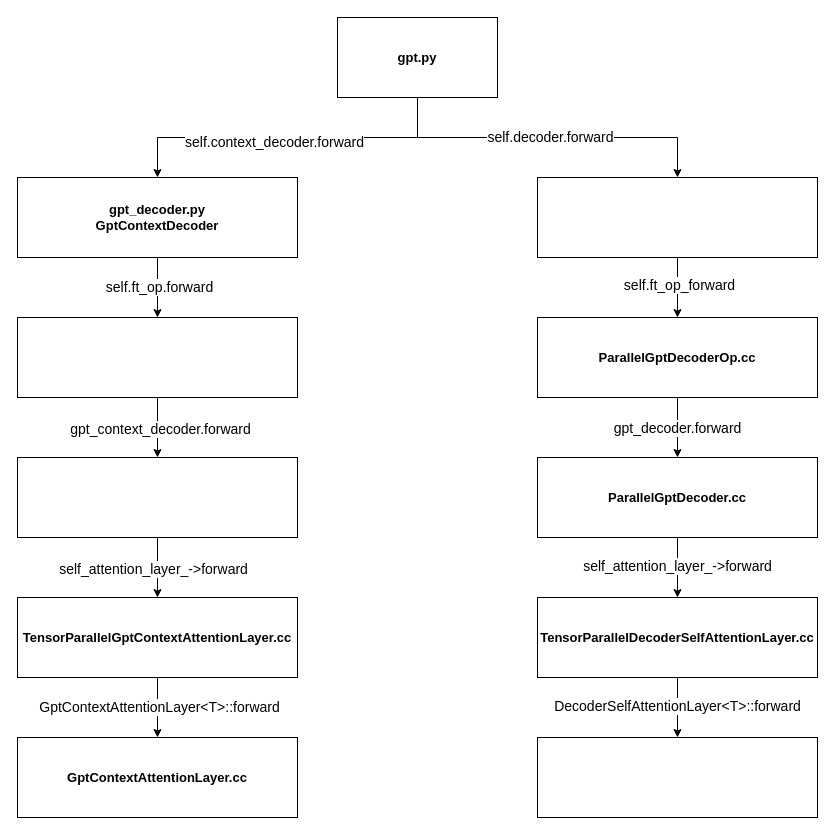
Image size: 835x835. Some labels were removed from this diagram. Each missing label, with the centre of its shape:
"DecoderSelfAttentionLayer.cc" goes at point 677,777.
"gpt_decoder.py GptDecoder" goes at point 677,217.
"ParallelGptContextDecoder.cc" goes at point 157,497.
"ParallelGptContextDecoderOp.cc" goes at point 157,357.
